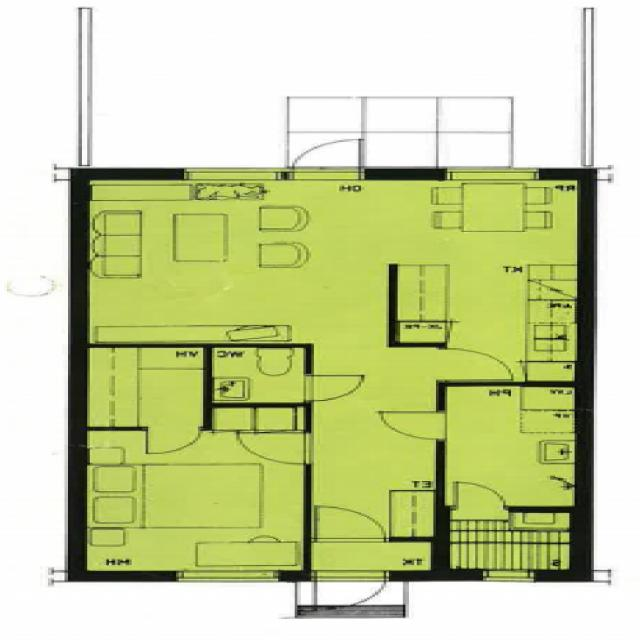door: (316, 571, 386, 613), (293, 137, 360, 180), (316, 506, 386, 541), (237, 432, 311, 463), (440, 348, 512, 379), (381, 412, 446, 438), (147, 427, 200, 456), (304, 376, 364, 400), (456, 484, 505, 510)
